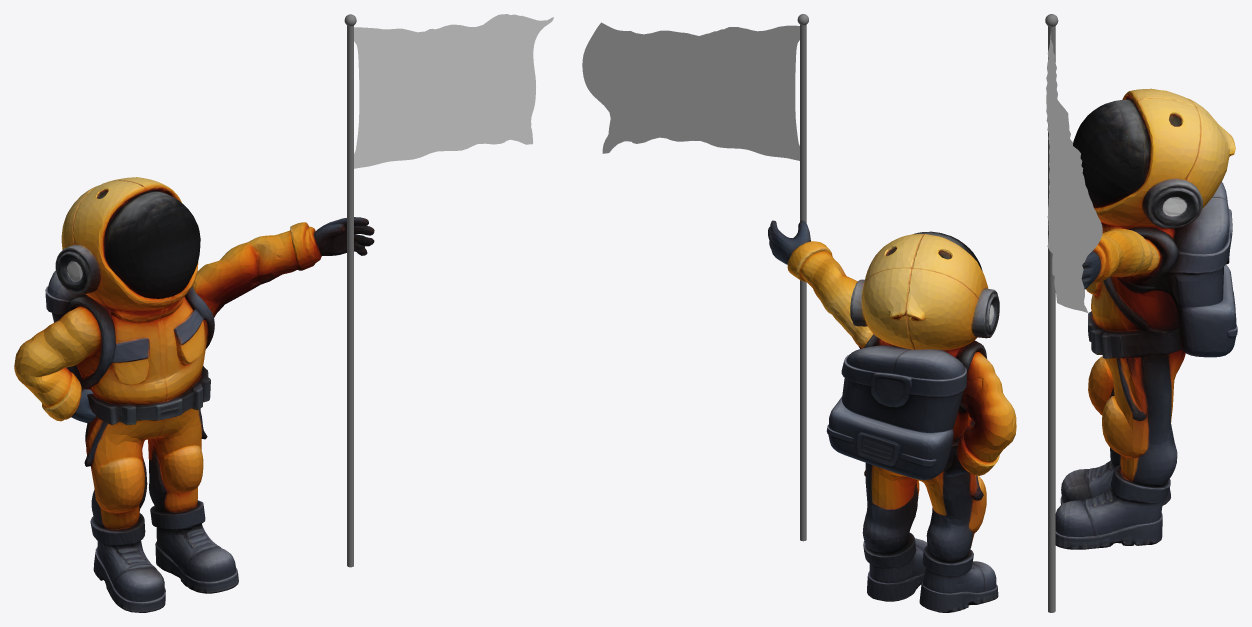
The model's file is james.fbx.
3 renders of one model, left to right at view 1: azimuth 30°, elevation 25°; view 2: azimuth 150°, elevation 25°; view 3: azimuth 270°, elevation 25°, orthographic. The views are drawn at different scales.
Parts seen in each view (by area): view 1: mesh, outputCloth2, pCylinder3Shape_11_0; view 2: mesh, outputCloth2, pCylinder3Shape_11_0; view 3: mesh, outputCloth2, pCylinder3Shape_11_0.
Part boxes in pixels (bbox=[...]): mesh: bbox=[14, 177, 374, 612]; outputCloth2: bbox=[354, 14, 553, 168]; pCylinder3Shape_11_0: bbox=[344, 14, 356, 567]; mesh: bbox=[768, 220, 1016, 612]; outputCloth2: bbox=[582, 22, 799, 160]; pCylinder3Shape_11_0: bbox=[797, 14, 808, 541]; mesh: bbox=[1055, 88, 1237, 549]; outputCloth2: bbox=[1046, 32, 1102, 312]; pCylinder3Shape_11_0: bbox=[1045, 14, 1058, 612].
Bounding box in the file's own units: 133 × 144 × 42.
3 materials, 1 textured.
